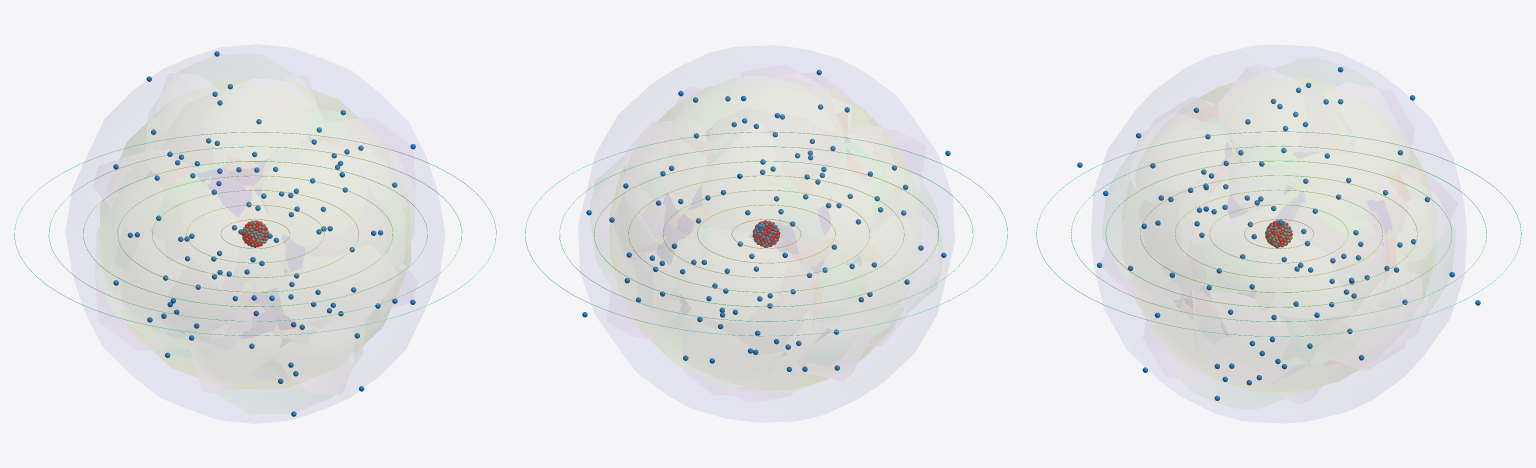
3 renders of one model, left to right at view 1: azimuth 30°, elevation 25°; view 2: azimuth 150°, elevation 25°; view 3: azimuth 270°, elevation 25°, orthographic.
Visible parts, largest first — view 1: Orbital_5s_0, Nivel_n7, Nivel_n6, Nivel_n5, Nivel_n4, Nivel_n3; view 2: Orbital_5s_0, Nivel_n7, Nivel_n6, Nivel_n5, Nivel_n4, Nivel_n3; view 3: Orbital_5s_0, Nivel_n7, Nivel_n6, Nivel_n5, Nivel_n4, Nivel_n3.
Part boxes in pixels (box(x1,y1,x2,y2)): Orbital_5s_0: box(100, 79, 410, 388); Nivel_n7: box(14, 132, 496, 335); Nivel_n6: box(48, 146, 462, 321); Nivel_n5: box(83, 161, 427, 306); Nivel_n4: box(117, 175, 393, 292); Nivel_n3: box(152, 190, 358, 277); Orbital_5s_0: box(610, 87, 922, 390); Nivel_n7: box(525, 131, 1007, 336); Nivel_n6: box(559, 146, 973, 321); Nivel_n5: box(594, 161, 938, 306); Nivel_n4: box(628, 175, 904, 292); Nivel_n3: box(663, 190, 869, 277); Orbital_5s_0: box(1122, 76, 1435, 391); Nivel_n7: box(1036, 131, 1521, 336); Nivel_n6: box(1071, 146, 1486, 321); Nivel_n5: box(1105, 160, 1452, 307); Nivel_n4: box(1140, 175, 1417, 292); Nivel_n3: box(1175, 189, 1382, 278).
Size of the model in its own units: 2.1 by 1.93 by 2.1.
